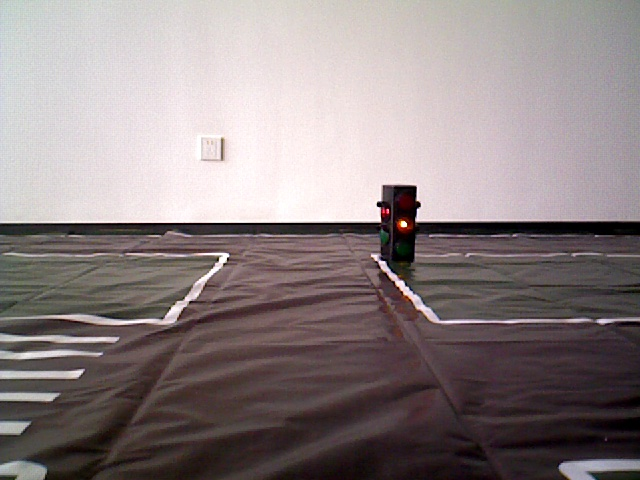yellow: (381, 182, 415, 263)
